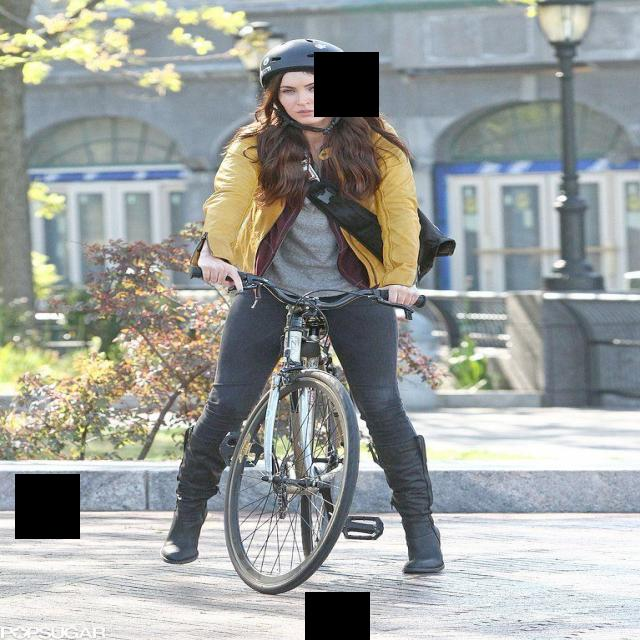Helmet: (263, 39, 359, 127)
